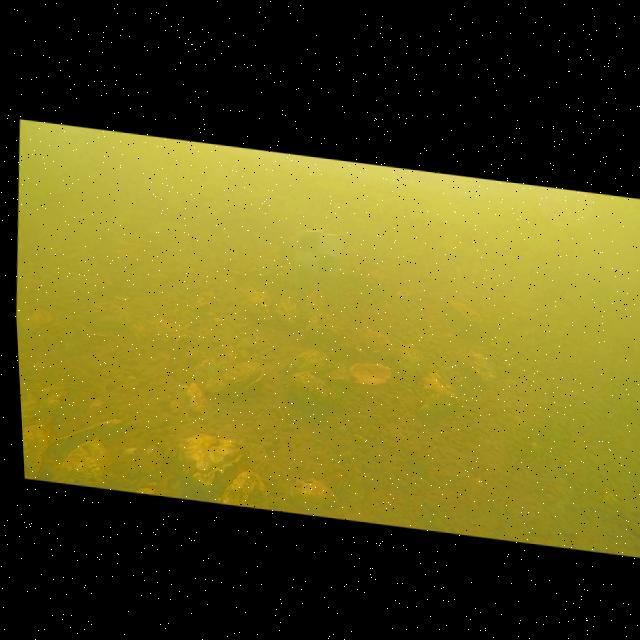Oyster-Closed: (175, 430, 248, 485), (204, 360, 261, 395), (218, 470, 268, 509), (419, 372, 457, 413), (290, 479, 337, 509), (291, 371, 336, 402), (85, 302, 133, 331), (152, 318, 189, 348), (360, 329, 398, 358), (462, 351, 494, 381), (305, 313, 339, 341), (243, 287, 271, 320), (274, 297, 299, 328), (448, 300, 480, 323), (22, 309, 53, 330), (305, 290, 327, 314), (251, 324, 274, 340), (186, 295, 211, 308)
Oyster-Indeterminate: (58, 436, 115, 489), (190, 343, 238, 381), (22, 424, 46, 478), (288, 349, 334, 374), (110, 242, 146, 266), (360, 269, 389, 295), (398, 343, 423, 372), (75, 275, 113, 294)
Oyster-Open: (349, 362, 391, 385)
